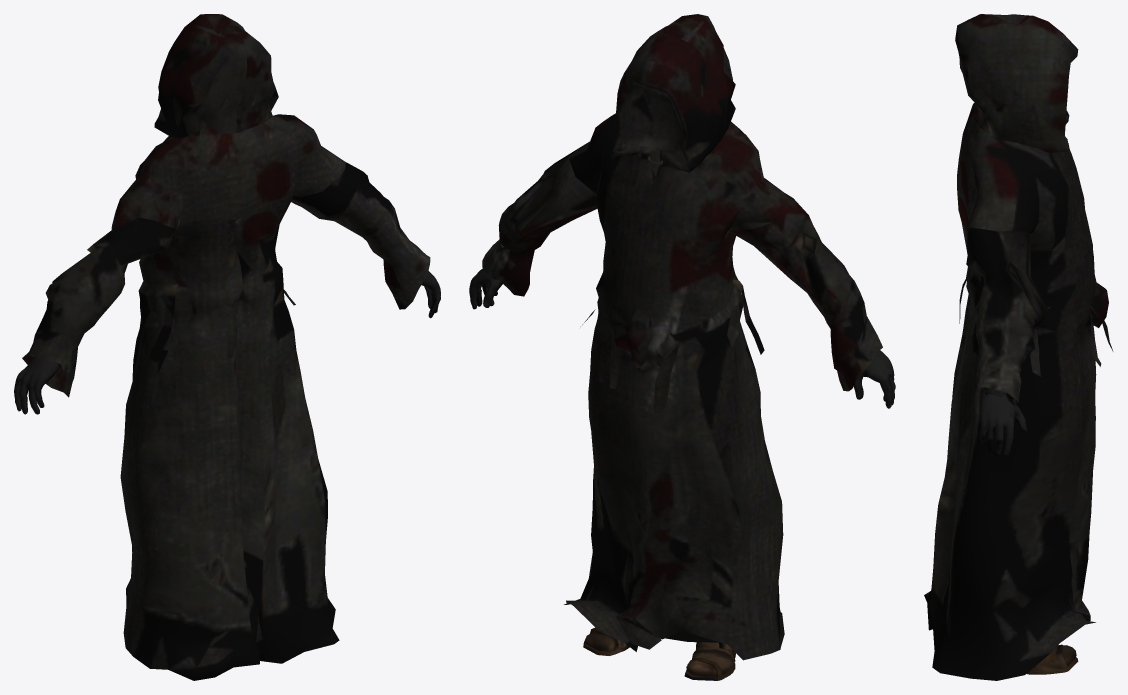
3 views of the same model, side by side, from view 1: azimuth 30°, elevation 25°; view 2: azimuth 150°, elevation 25°; view 3: azimuth 270°, elevation 25° (orthographic).
Visible parts, largest first — view 1: mesh_0; view 2: mesh_0; view 3: mesh_0.
Boxes of the visible parts, x1=… form: mesh_0: x1=14, y1=14, x2=440, y2=680; mesh_0: x1=469, y1=14, x2=895, y2=680; mesh_0: x1=924, y1=14, x2=1113, y2=680.
Bounding box in the file's own units: 52.85 × 74.91 × 20.55.
1 material, 1 textured.
